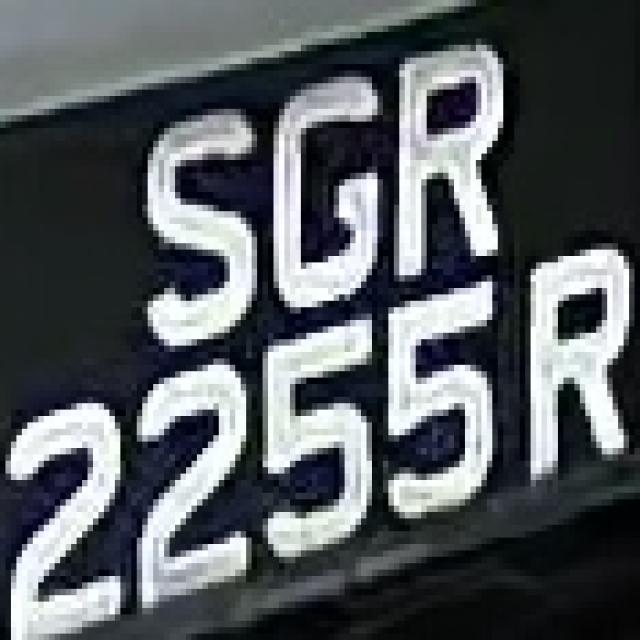2: (120, 352, 279, 614), (0, 384, 148, 640)
5: (224, 294, 383, 557), (366, 262, 508, 544)
G: (262, 64, 394, 333)
R: (377, 38, 509, 282), (514, 243, 635, 467)
S: (142, 102, 263, 352)
